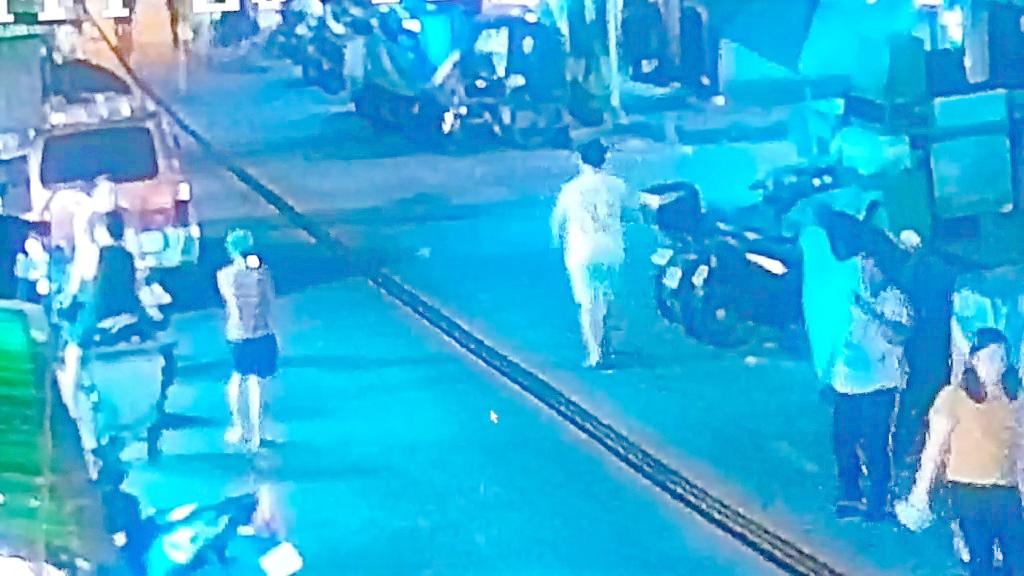Car: (10, 87, 239, 295)
Motor: (619, 159, 830, 371), (323, 0, 526, 141)
